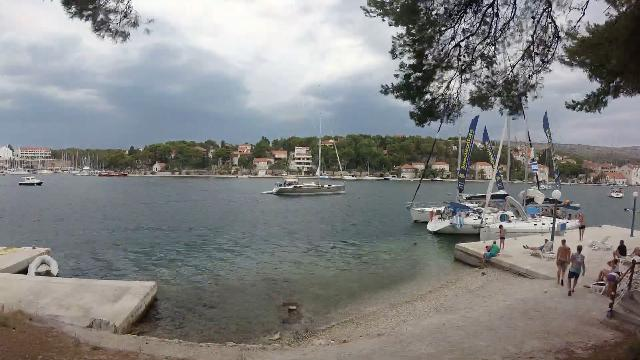Sailboat: (260, 172, 356, 204)
speedboat: (15, 170, 50, 190)
